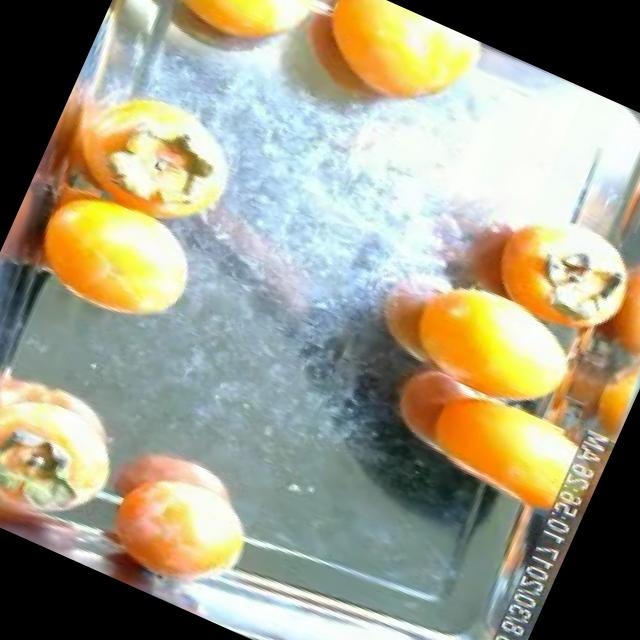Fruit: (57, 407, 292, 622), (4, 154, 230, 356)
